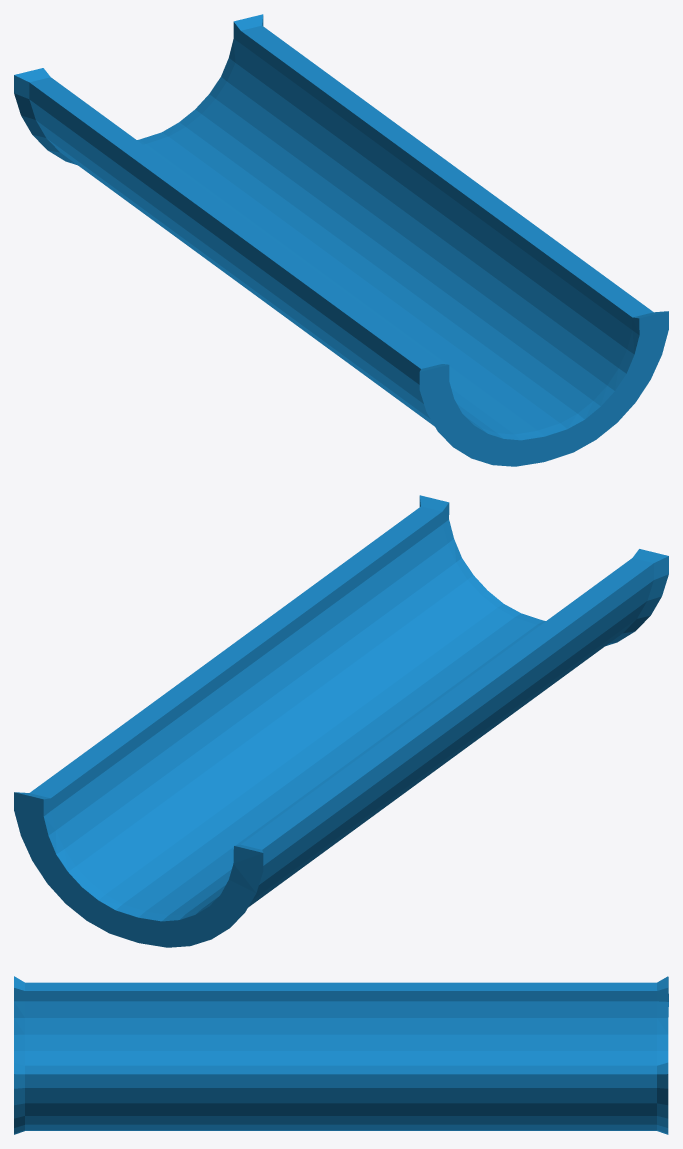
File: take.obj
3 views of the same model, one above another, from view 1: azimuth 30°, elevation 25°; view 2: azimuth 150°, elevation 25°; view 3: azimuth 270°, elevation 25° (orthographic). The views are drawn at different scales.
Parts seen in each view (by area): view 1: 円柱; view 2: 円柱; view 3: 円柱.
Part boxes in pixels (<box>): 円柱: <box>14,14,668,466</box>; 円柱: <box>14,495,668,947</box>; 円柱: <box>14,976,668,1134</box>.
Size of the model in its own units: 5.93 by 2.74 by 16.72.
Materials: 1 (1 with a texture image).
